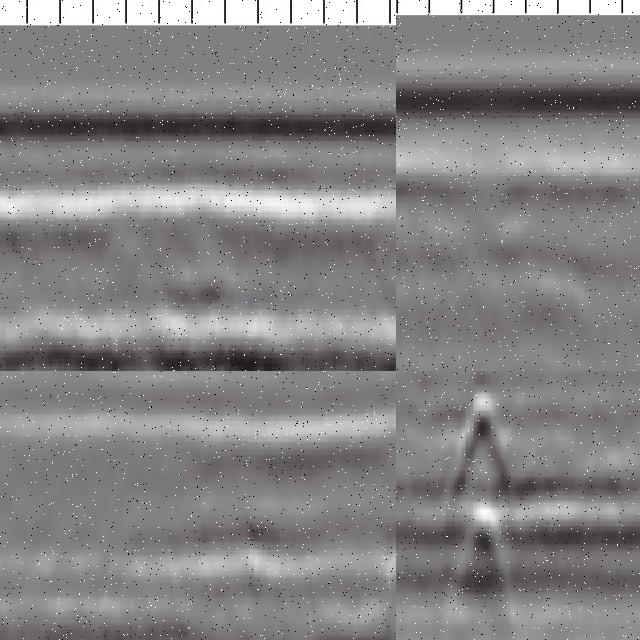crack: (450, 372, 510, 640)
